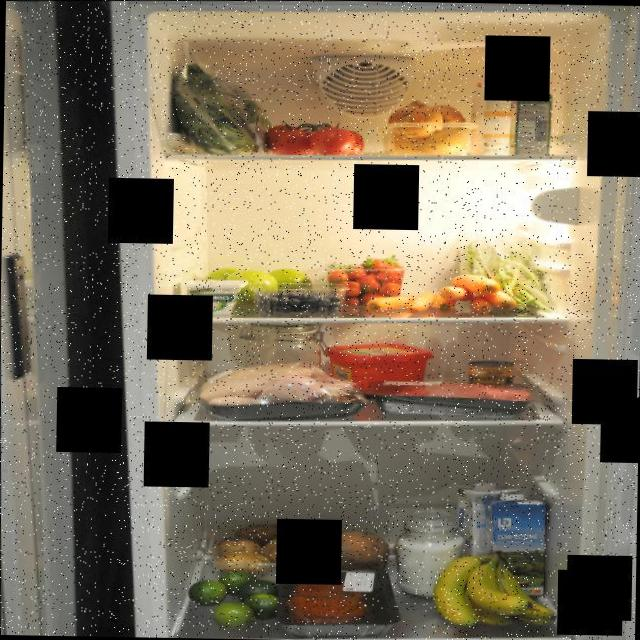Carne pollo: (196, 351, 376, 426)
Carne vacuno: (285, 570, 372, 624)
Cebolla: (388, 96, 474, 154)
Leche: (480, 492, 552, 602), (454, 480, 520, 578)
Mantequilla: (322, 340, 432, 396)
Manzana: (206, 259, 314, 304)
Patata: (212, 516, 308, 572)
Plátano: (424, 546, 560, 628)
Tomate: (258, 116, 366, 159)
Zanahoria: (430, 270, 520, 318), (362, 290, 431, 315)
